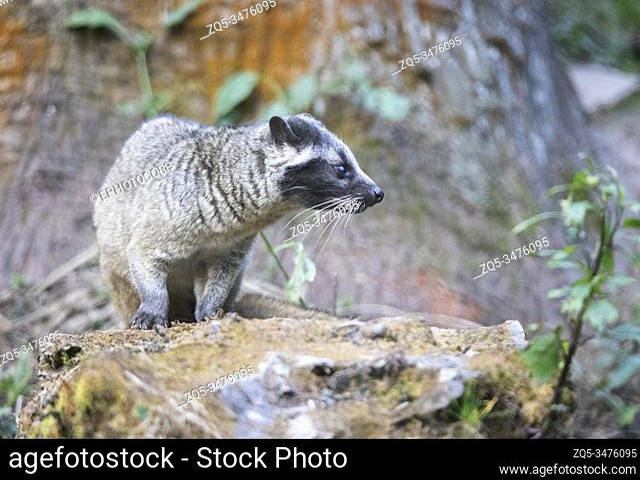civet: (89, 111, 392, 328)
